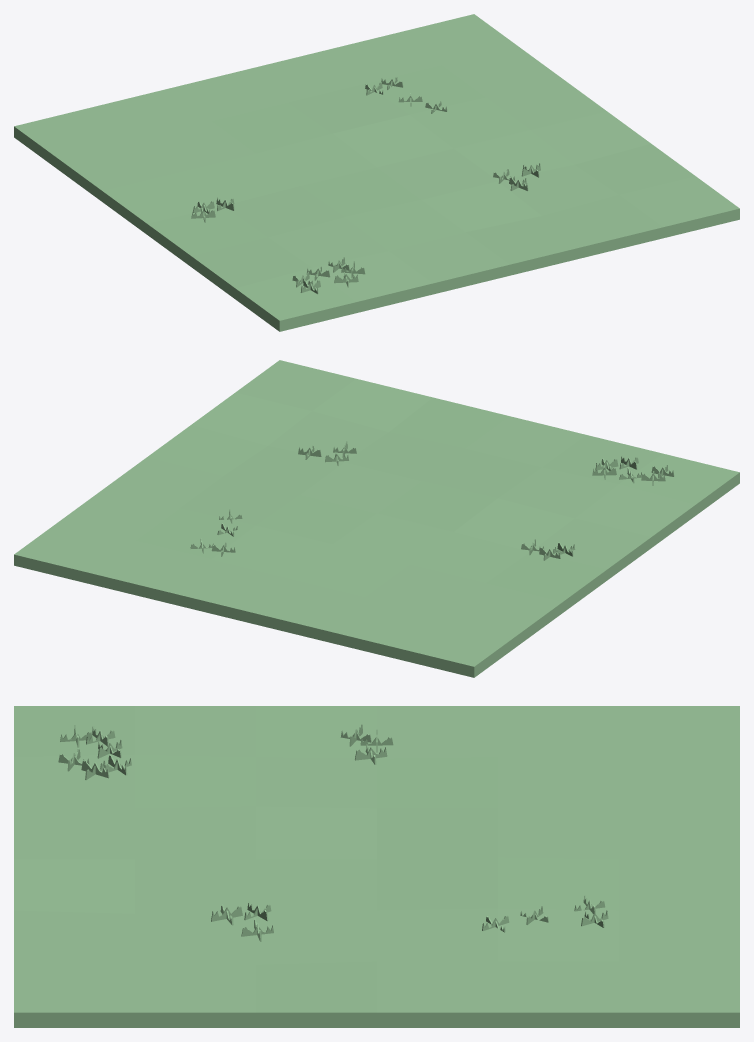
Rendered from Plains I Scale Fix.fbx.
3 renders of one model, top to bottom at view 1: azimuth 30°, elevation 25°; view 2: azimuth 150°, elevation 25°; view 3: azimuth 270°, elevation 25°, orthographic. The views are drawn at different scales.
Parts seen in each view (by area): view 1: Plains I; view 2: Plains I; view 3: Plains I.
Boxes of the visible parts, x1,y1,x2,y2 form: Plains I: [14, 14, 739, 331]; Plains I: [14, 360, 739, 677]; Plains I: [14, 706, 739, 1027].
Bounding box in the file's own units: 16.03 × 0.6653 × 16.03.
